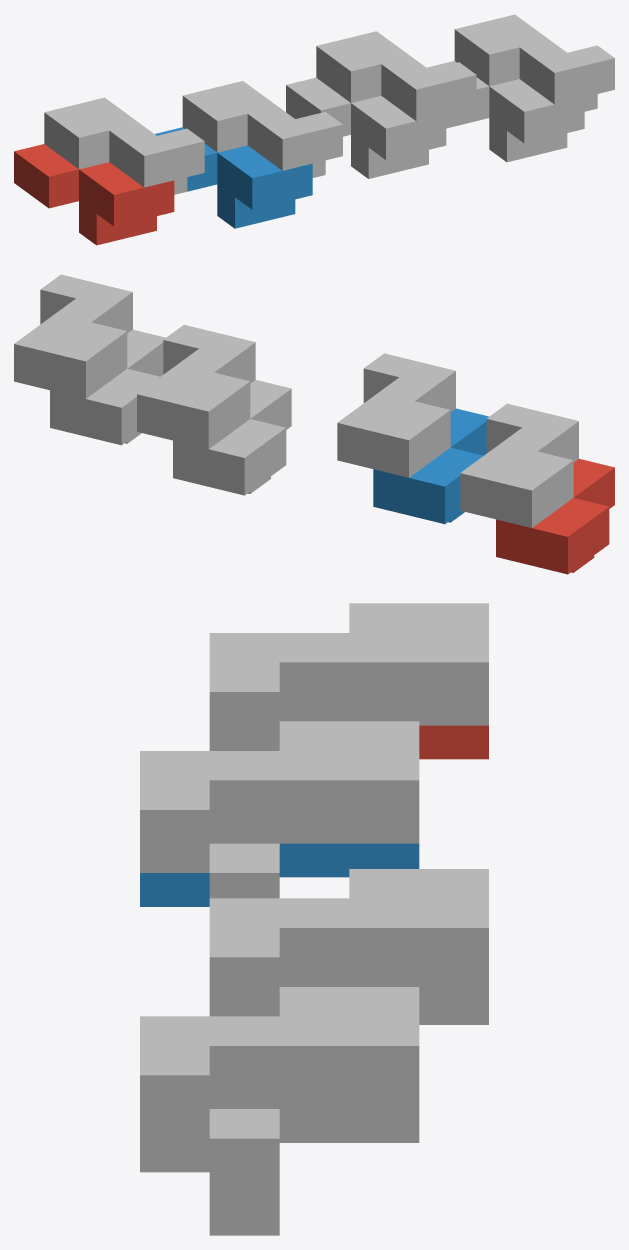
The model's file is tiling.obj.
3 views of the same model, one above another, from view 1: azimuth 30°, elevation 25°; view 2: azimuth 150°, elevation 25°; view 3: azimuth 270°, elevation 25° (orthographic). The views are drawn at different scales.
Visible parts, largest first — view 1: copy_1_domain_3, copy_1_domain_7, copy_1_domain_8, copy_1_domain_4, copy_1_domain_1, copy_1_domain_5, copy_1_domain_6, copy_1_domain_2; view 2: copy_1_domain_4, copy_1_domain_7, copy_1_domain_8, copy_1_domain_3, copy_1_domain_1, copy_1_domain_5, copy_1_domain_2, copy_1_domain_6; view 3: copy_1_domain_8, copy_1_domain_4, copy_1_domain_3, copy_1_domain_7, copy_1_domain_6, copy_1_domain_2, copy_1_domain_1, copy_1_domain_5.
Part boxes in pixels (x1,y1,x2,y2): copy_1_domain_3: (44, 97, 204, 194); copy_1_domain_7: (316, 31, 476, 128); copy_1_domain_8: (454, 14, 614, 111); copy_1_domain_4: (182, 81, 342, 177); copy_1_domain_1: (14, 144, 174, 245); copy_1_domain_5: (286, 77, 446, 178); copy_1_domain_6: (427, 61, 584, 162); copy_1_domain_2: (155, 127, 312, 228); copy_1_domain_4: (337, 353, 455, 477); copy_1_domain_7: (137, 324, 255, 449); copy_1_domain_8: (14, 274, 132, 398); copy_1_domain_3: (460, 403, 578, 527); copy_1_domain_1: (496, 458, 614, 574); copy_1_domain_5: (173, 380, 291, 495); copy_1_domain_2: (373, 408, 488, 524); copy_1_domain_6: (50, 329, 165, 445); copy_1_domain_8: (140, 987, 419, 1201); copy_1_domain_4: (140, 721, 419, 898); copy_1_domain_3: (209, 603, 488, 750); copy_1_domain_7: (209, 869, 488, 1016); copy_1_domain_6: (140, 1109, 419, 1235); copy_1_domain_2: (140, 843, 419, 906); copy_1_domain_1: (419, 725, 488, 759); copy_1_domain_5: (419, 991, 488, 1024).
Bounding box in the file's own units: 17 × 3 × 5.
